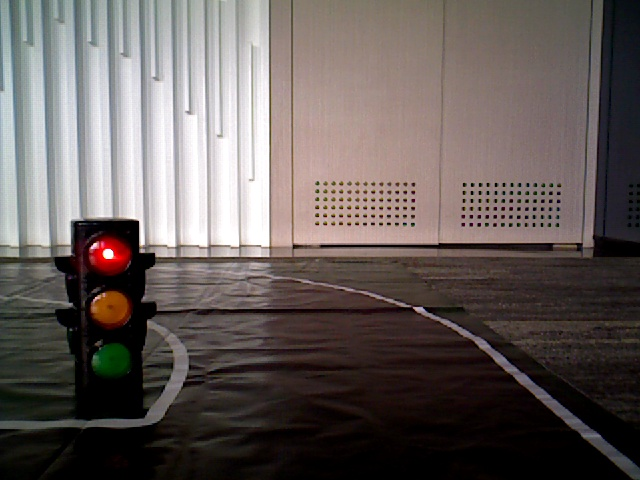red: (79, 228, 139, 380)
